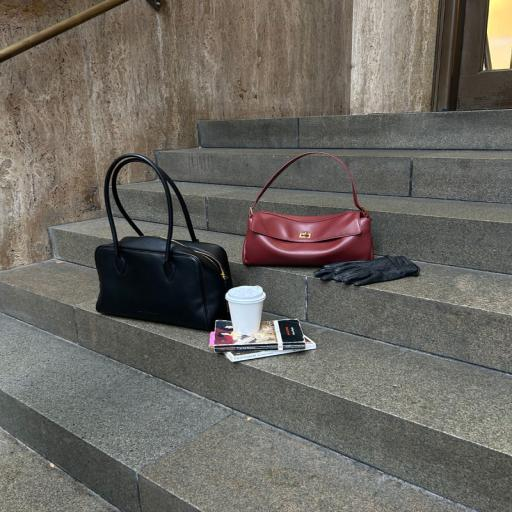bed: (211, 319, 305, 352)
door: (95, 154, 231, 330), (243, 152, 374, 266)
sofa: (0, 111, 511, 511)
